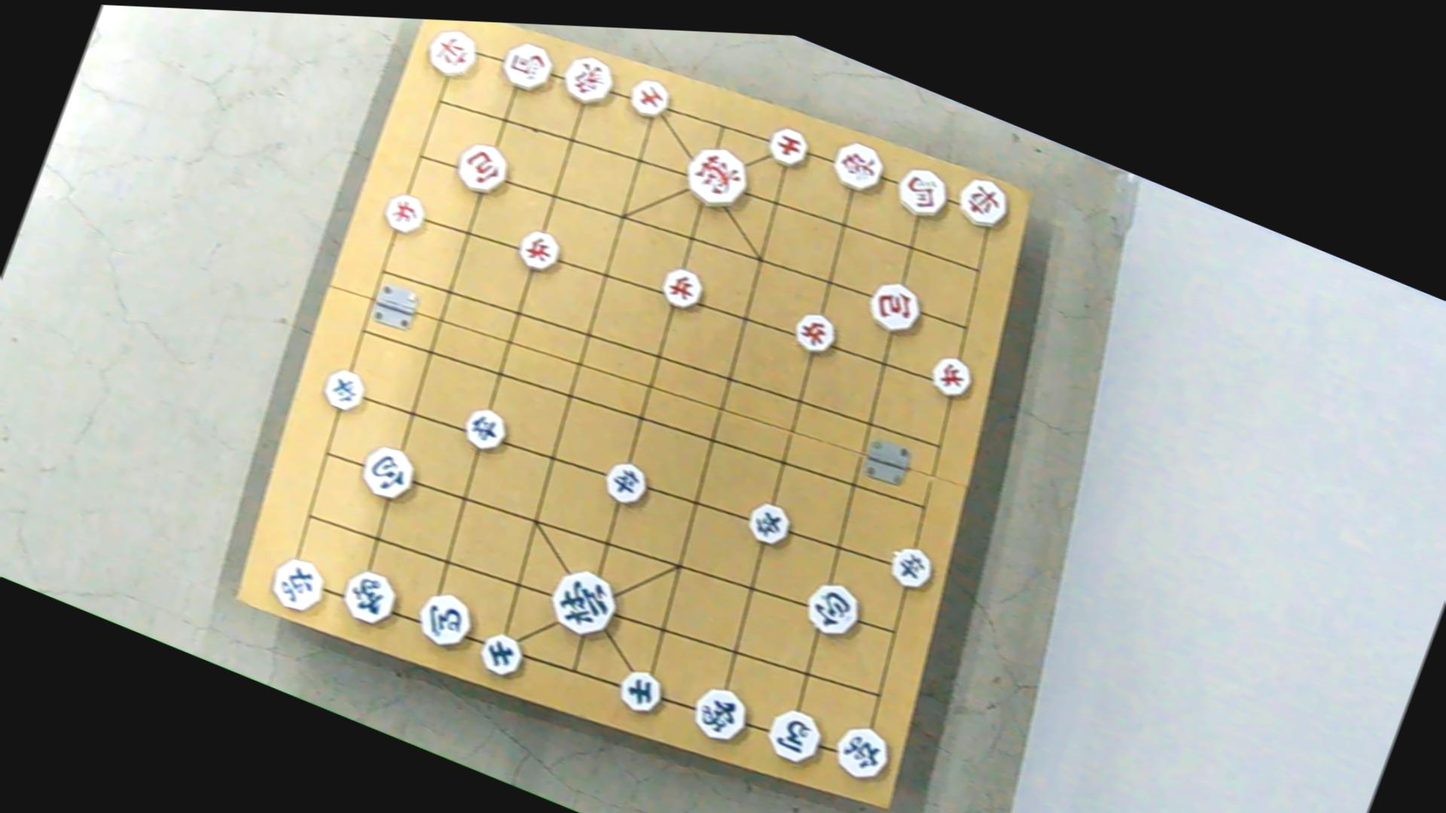cha_green: (827, 722, 895, 787), (266, 553, 331, 619)
cha_red: (949, 173, 1014, 234), (422, 24, 482, 81)
jol_green: (458, 403, 513, 454), (885, 544, 940, 595), (602, 458, 655, 507), (323, 368, 374, 418), (742, 500, 795, 547)
jol_red: (924, 354, 977, 403), (657, 265, 708, 315), (789, 309, 841, 358), (510, 228, 561, 277), (379, 190, 430, 238)
ma_green: (761, 699, 830, 768), (410, 589, 477, 653)
ma_red: (890, 163, 955, 223), (496, 38, 557, 97)
po_green: (798, 574, 867, 645), (355, 438, 424, 505)
po_red: (863, 279, 928, 340), (451, 139, 513, 197)
sa_green: (615, 666, 668, 719), (472, 629, 526, 681)
sa_red: (624, 75, 677, 125), (764, 126, 814, 171)
sang_green: (683, 678, 755, 752), (334, 565, 401, 629)
sang_red: (558, 52, 621, 112), (826, 138, 889, 197)
wang_green: (544, 565, 624, 644)
wang_red: (679, 140, 758, 218)
